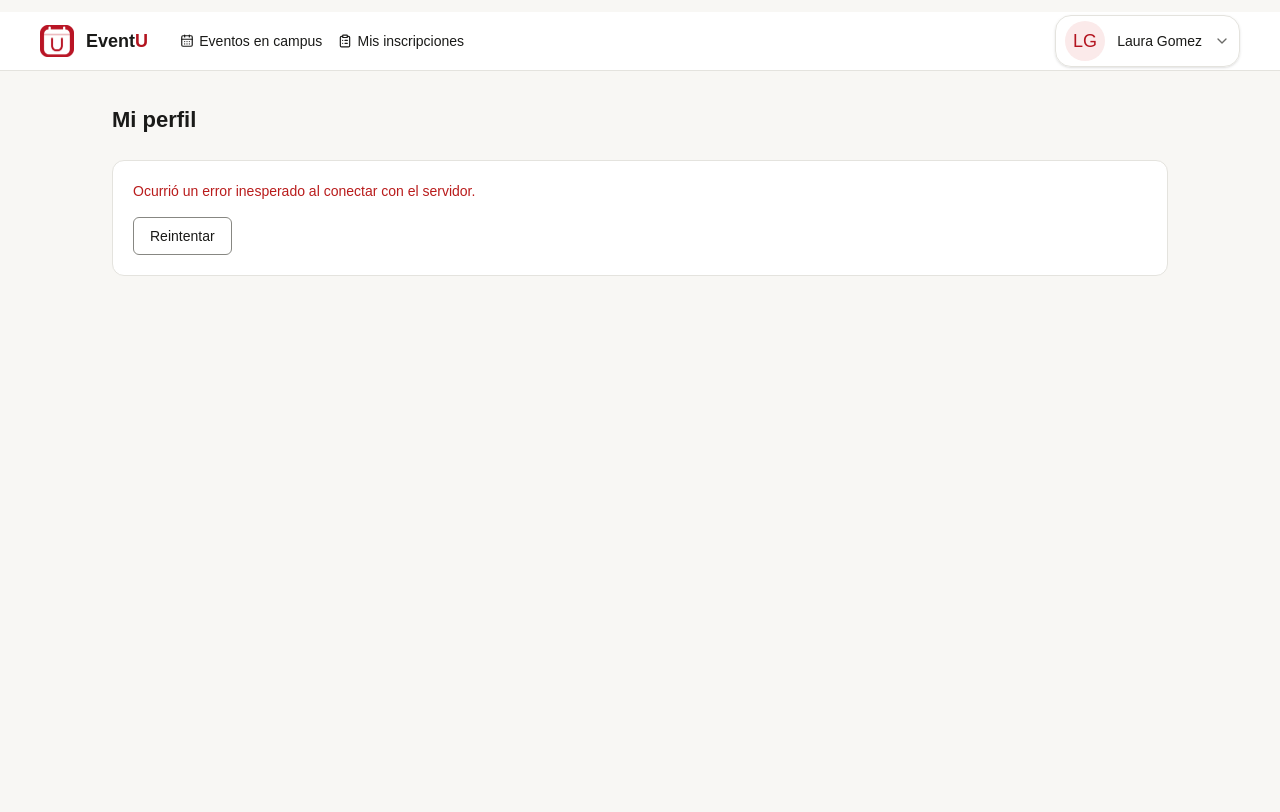
Scenario: Perfil › muestra errores al fallar la consulta de perfil y permite reintentar
The image size is (1280, 812).
expect the message shows "Ocurrió un error inesperado al conectar con el servidor.": met, box [133,183,475,199]
Click the button "Reintentar" at {"x": 182, "y": 236}, box [133,217,232,255]
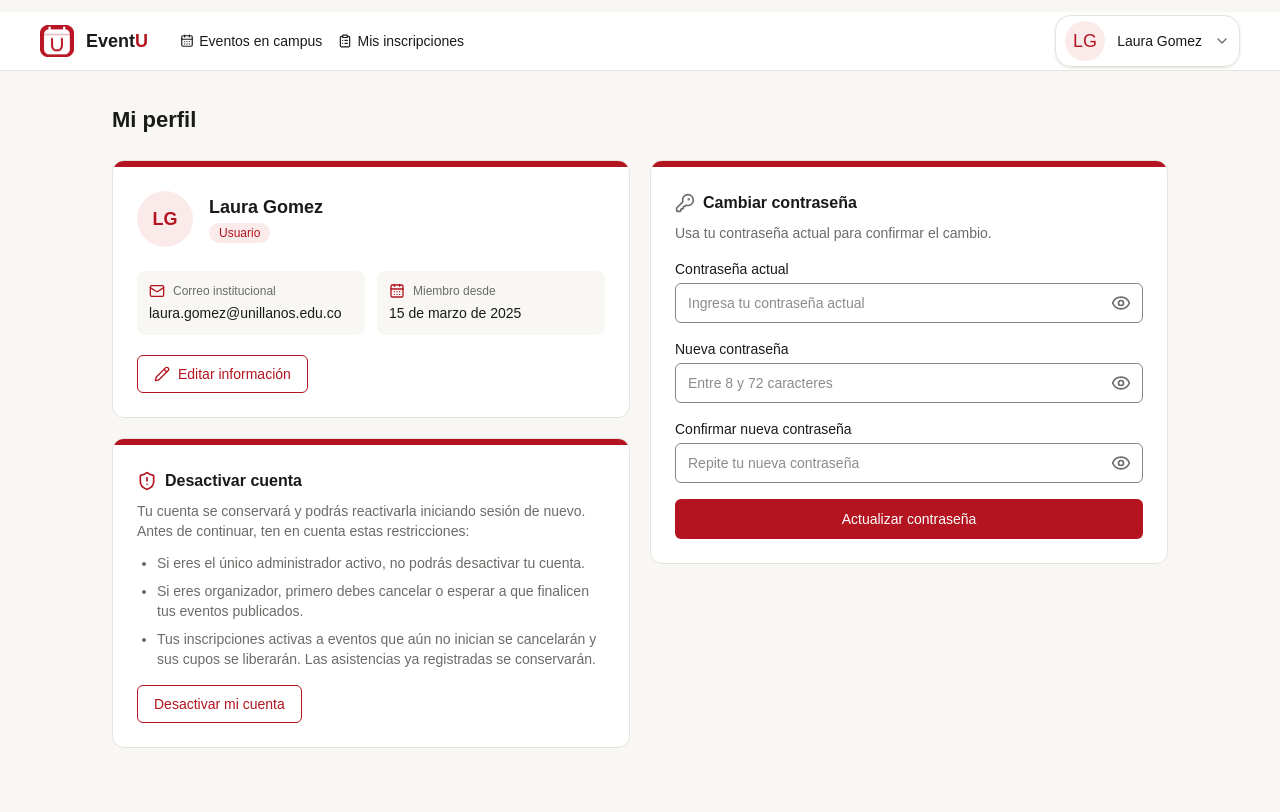
expect the heading "Laura Gomez" is shown: met, box [209,196,323,219]
